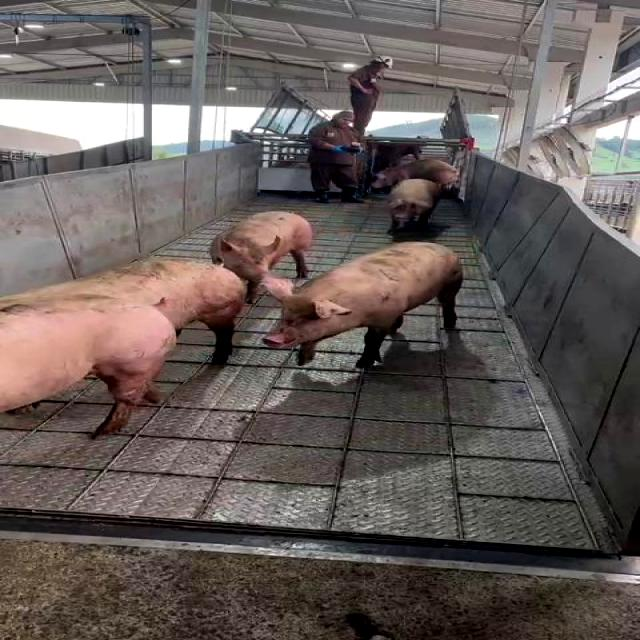pig: (264, 241, 463, 367), (0, 296, 176, 437), (5, 259, 245, 362), (211, 211, 314, 302), (390, 179, 442, 232)
